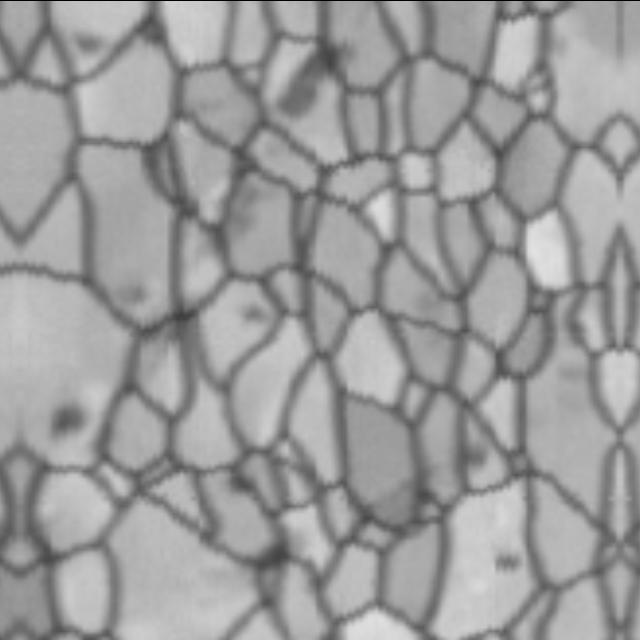good_void: (266, 24, 354, 134), (217, 172, 283, 255), (56, 5, 119, 70), (40, 390, 97, 444), (217, 454, 268, 505), (125, 6, 173, 56), (451, 435, 496, 481), (231, 285, 276, 330), (120, 271, 164, 314), (483, 546, 525, 572)
